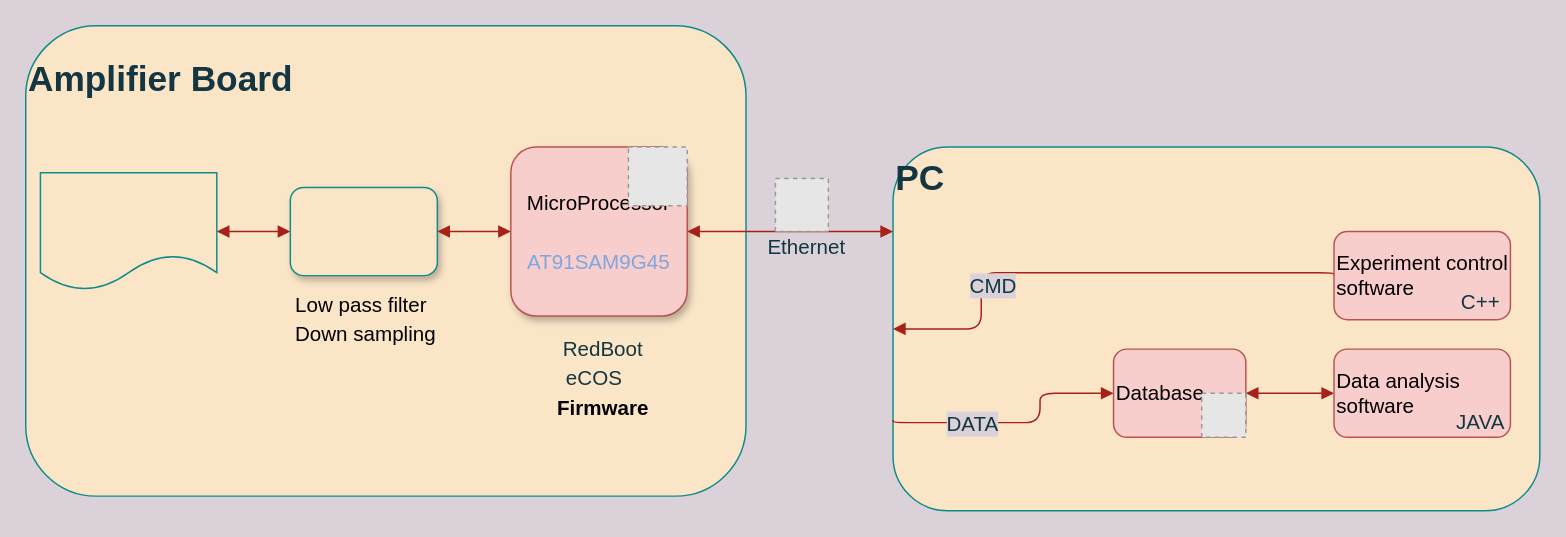
Some shapes in this 1566 by 537 pixel diagram are drawn without their labels. Grey dashed boxes stand in for pictures. Each missing label, with the centre of its shape:
"Data acquisition hardware" belongs at point 128,230.
"FPGA" belongs at point 364,233.
